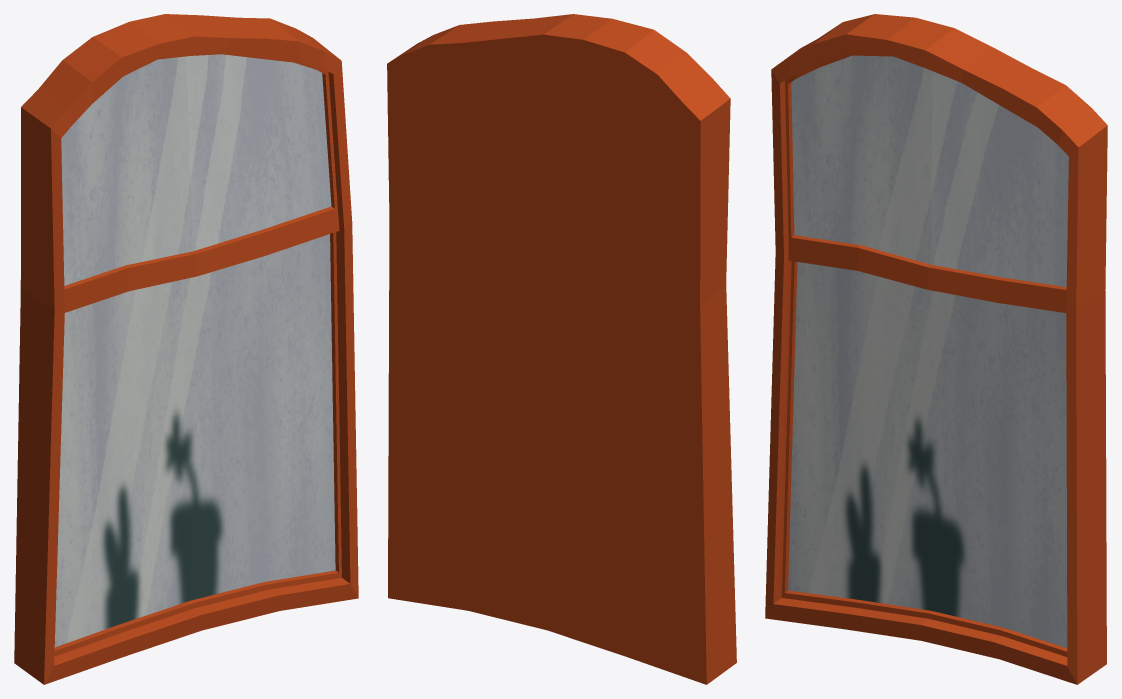
File: Window19.fbx
3 renders of one model, left to right at view 1: azimuth 30°, elevation 25°; view 2: azimuth 150°, elevation 25°; view 3: azimuth 330°, elevation 25°, orthographic. The views are drawn at different scales.
Visible parts, largest first — view 1: Cube.086; view 2: Cube.086; view 3: Cube.086.
Boxes of the visible parts, x1,y1,x2,y2 form: Cube.086: [14, 14, 358, 684]; Cube.086: [387, 14, 736, 684]; Cube.086: [765, 14, 1107, 684].
Size of the model in its own units: 117 by 217 by 25.56.
